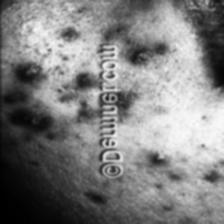Non-Cancerous Skin Condition: (0, 1, 96, 172), (122, 30, 224, 186)
